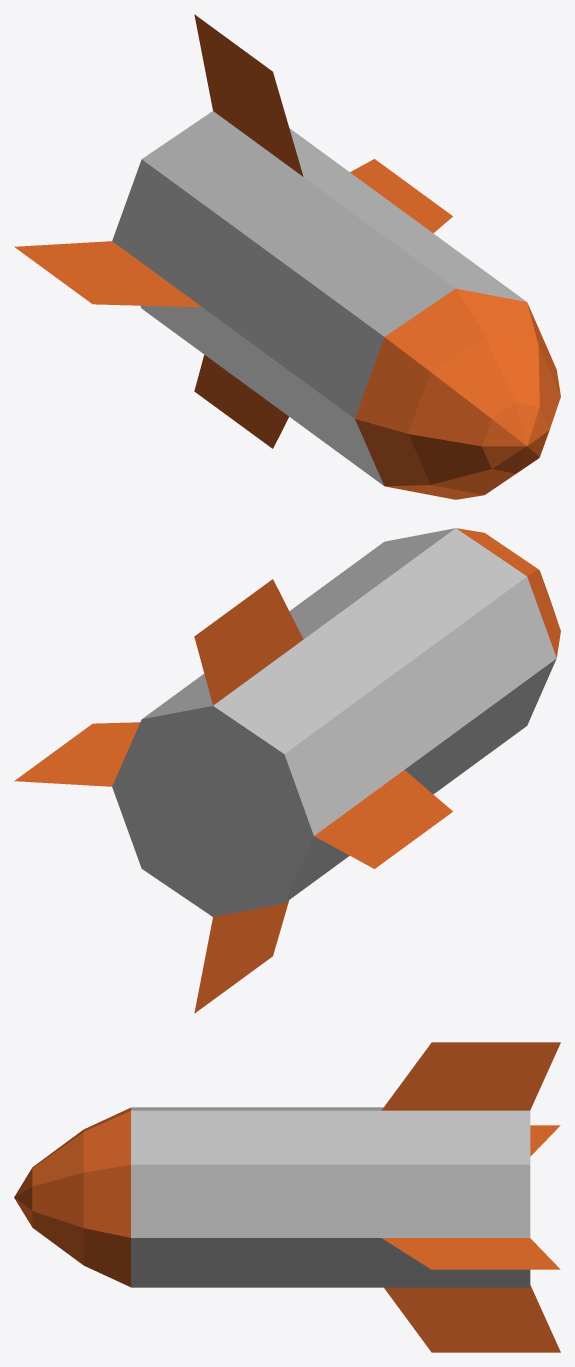
The model's file is Missile.fbx.
The picture shows the model from 3 angles, top to bottom: view 1: azimuth 30°, elevation 25°; view 2: azimuth 150°, elevation 25°; view 3: azimuth 270°, elevation 25°; orthographic projection. The views are drawn at different scales.
Parts seen in each view (by area): view 1: Missile; view 2: Missile; view 3: Missile.
Part boxes in pixels (box(x1,y1,x2,y2)): Missile: box(14, 14, 560, 499); Missile: box(14, 528, 560, 1013); Missile: box(14, 1042, 560, 1352).
Size of the model in its own units: 71.55 by 114 by 71.55.
